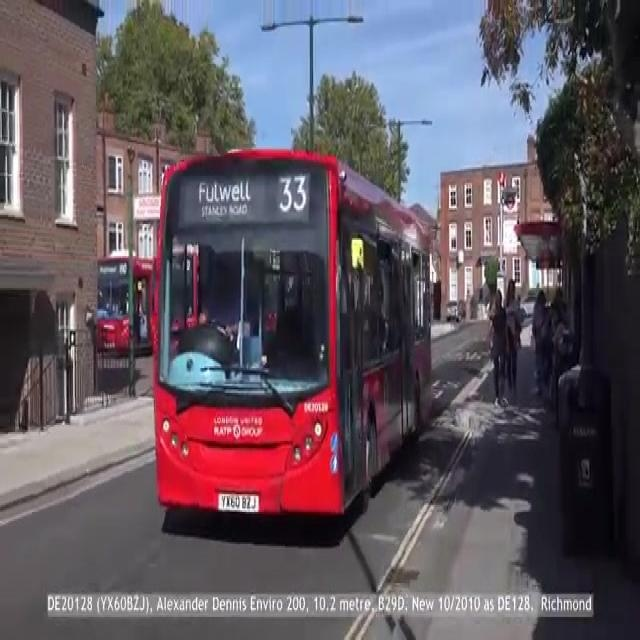Bus: (141, 153, 439, 517), (95, 258, 141, 348)
